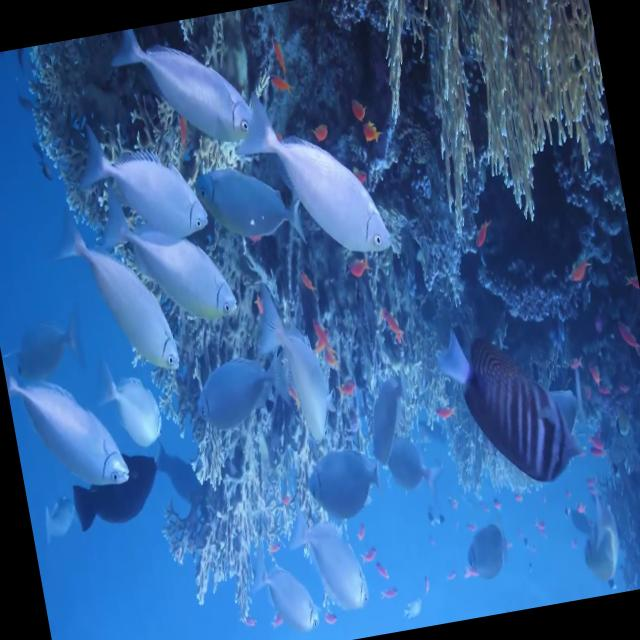fish: (232, 65, 402, 288), (422, 294, 587, 502), (44, 206, 188, 390), (238, 272, 358, 483), (112, 9, 264, 168), (67, 103, 213, 265), (2, 342, 129, 510), (116, 208, 240, 342), (60, 427, 180, 562), (192, 150, 324, 270), (175, 345, 296, 457), (284, 436, 396, 538), (294, 496, 376, 623), (81, 350, 172, 461), (248, 541, 332, 640), (347, 362, 421, 468), (443, 502, 517, 600), (557, 498, 627, 600), (37, 484, 85, 558), (384, 442, 428, 486)
